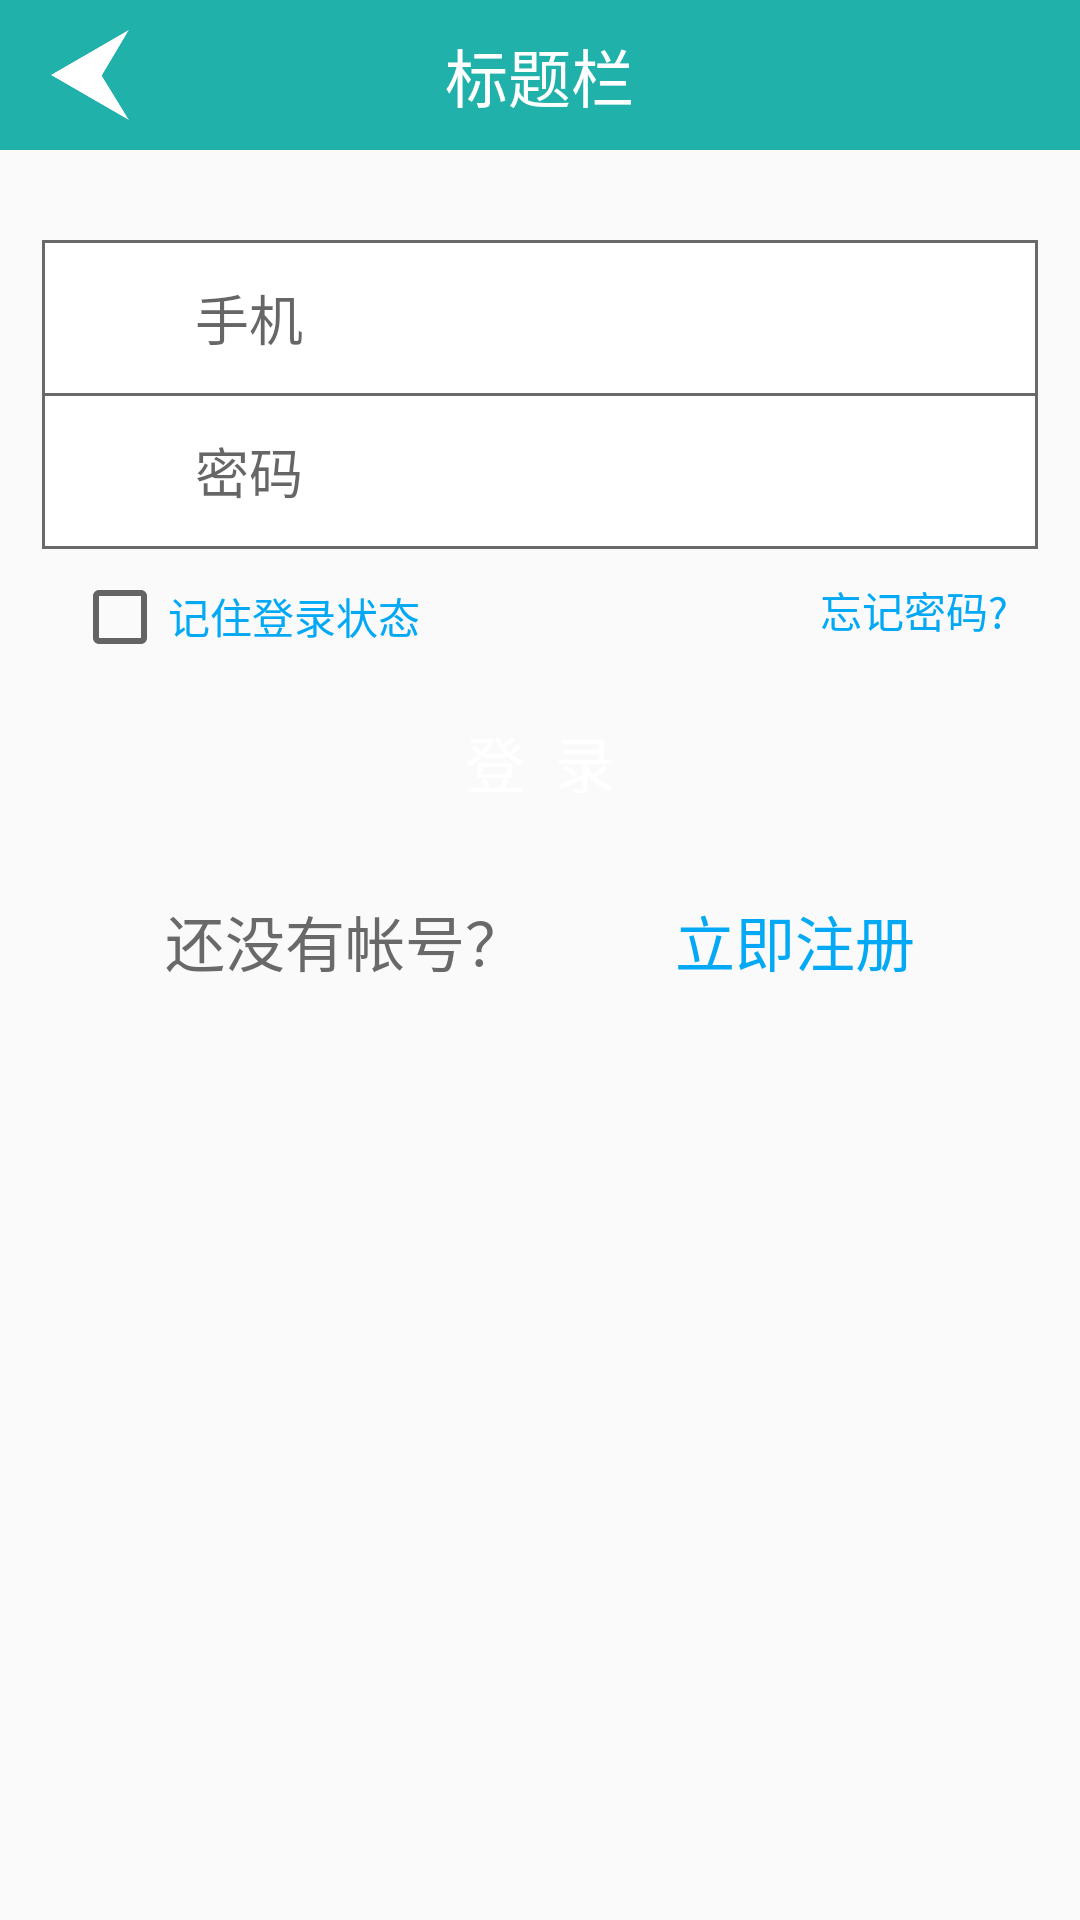

Named icons in this screenshot (1080px×1920px) and their centers, [x,y]:
back arrow: [90,75]
